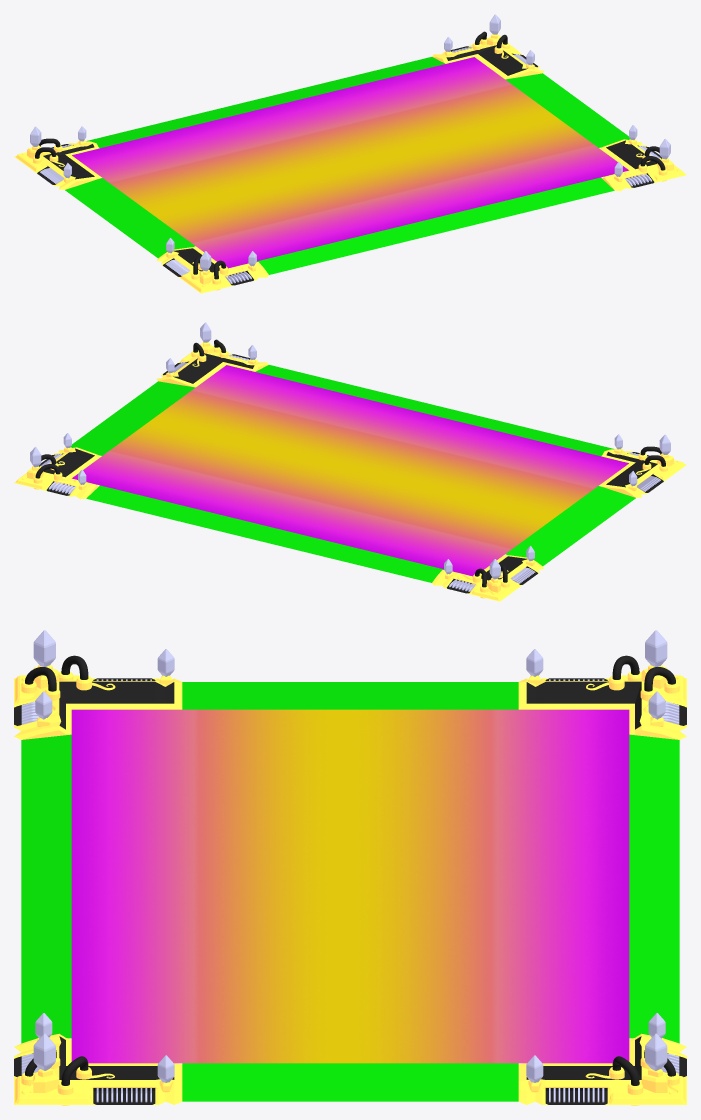
The model's file is NFT_golden_6x4.fbx.
3 views of the same model, one above another, from view 1: azimuth 30°, elevation 25°; view 2: azimuth 150°, elevation 25°; view 3: azimuth 270°, elevation 25° (orthographic). The views are drawn at different scales.
Visible parts, largest first — view 1: _screen_low1, walkways, corner_main (×4); view 2: _screen_low1, walkways, corner_main (×4); view 3: _screen_low1, walkways, corner_main (×4), corner (×2).
Boxes of the visible parts, <box> form: _screen_low1: <box>72,57,628,268</box>; walkways: <box>65,57,629,274</box>; corner_main (×4): <box>14,44,686,293</box>; _screen_low1: <box>72,365,628,576</box>; walkways: <box>71,365,635,582</box>; corner_main (×4): <box>14,352,686,601</box>; _screen_low1: <box>71,709,629,1063</box>; walkways: <box>21,682,679,1101</box>; corner_main (×4): <box>14,678,686,1104</box>; corner (×2): <box>15,1076,685,1103</box>.
Size of the model in its own units: 236 by 16.68 by 157.
Materials: 5 (1 with a texture image).
